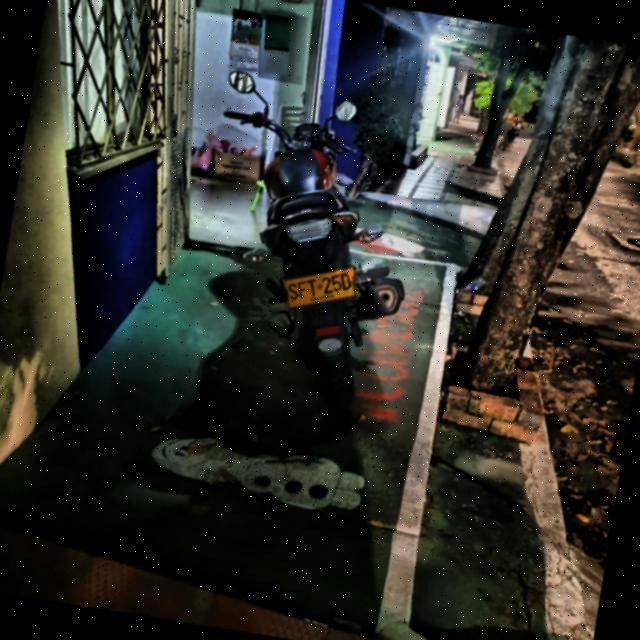2: (322, 277, 334, 295)
5: (331, 274, 343, 293)
D: (340, 272, 353, 292)
F: (297, 281, 308, 300)
S: (287, 283, 300, 302)
T: (307, 279, 317, 297)
